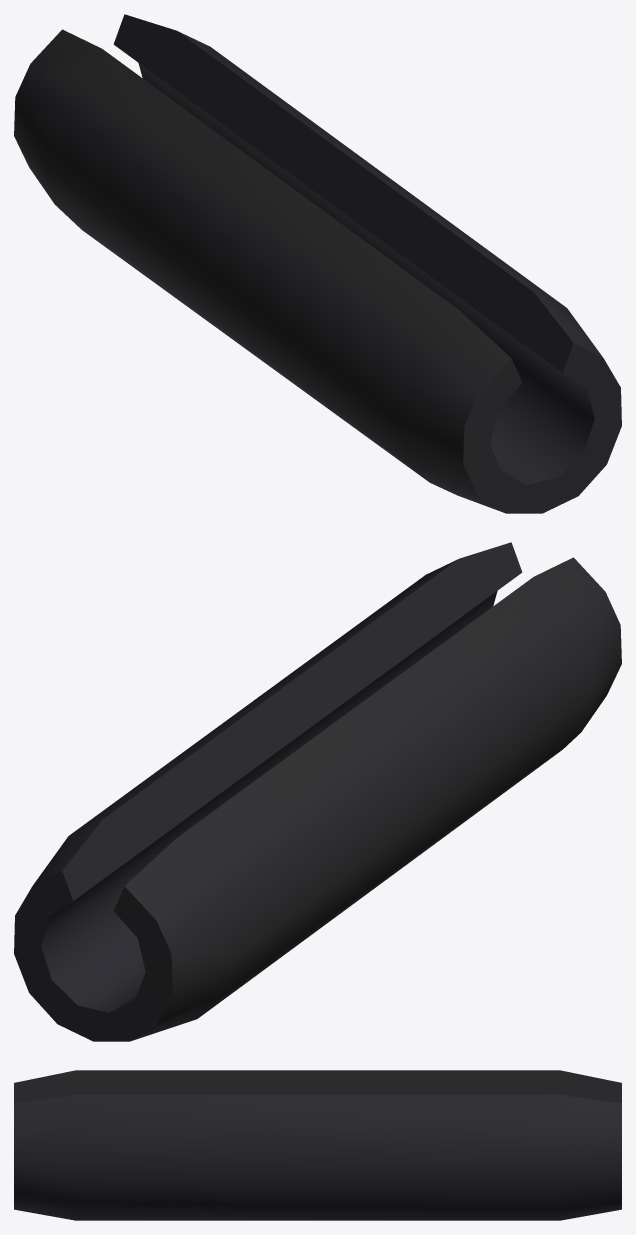
Rendered from Gas_Tube_Spring_Pin.dae.
3 views of the same model, one above another, from view 1: azimuth 30°, elevation 25°; view 2: azimuth 150°, elevation 25°; view 3: azimuth 270°, elevation 25° (orthographic). The views are drawn at different scales.
Parts seen in each view (by area): view 1: Gas_Tube_Spring_Pin; view 2: Gas_Tube_Spring_Pin; view 3: Gas_Tube_Spring_Pin.
Boxes of the visible parts, box(x1,y1,x2,y2) form: Gas_Tube_Spring_Pin: box(14, 14, 621, 513); Gas_Tube_Spring_Pin: box(14, 542, 621, 1041); Gas_Tube_Spring_Pin: box(14, 1070, 621, 1220).
Bounding box in the file's own units: 0.00192 × 0.00772 × 0.00184.
Materials: 1 (1 with a texture image).
